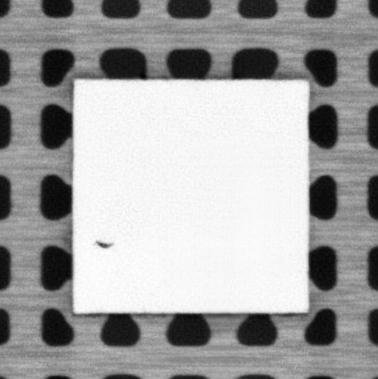DIE_INK: (94, 237, 113, 250)
